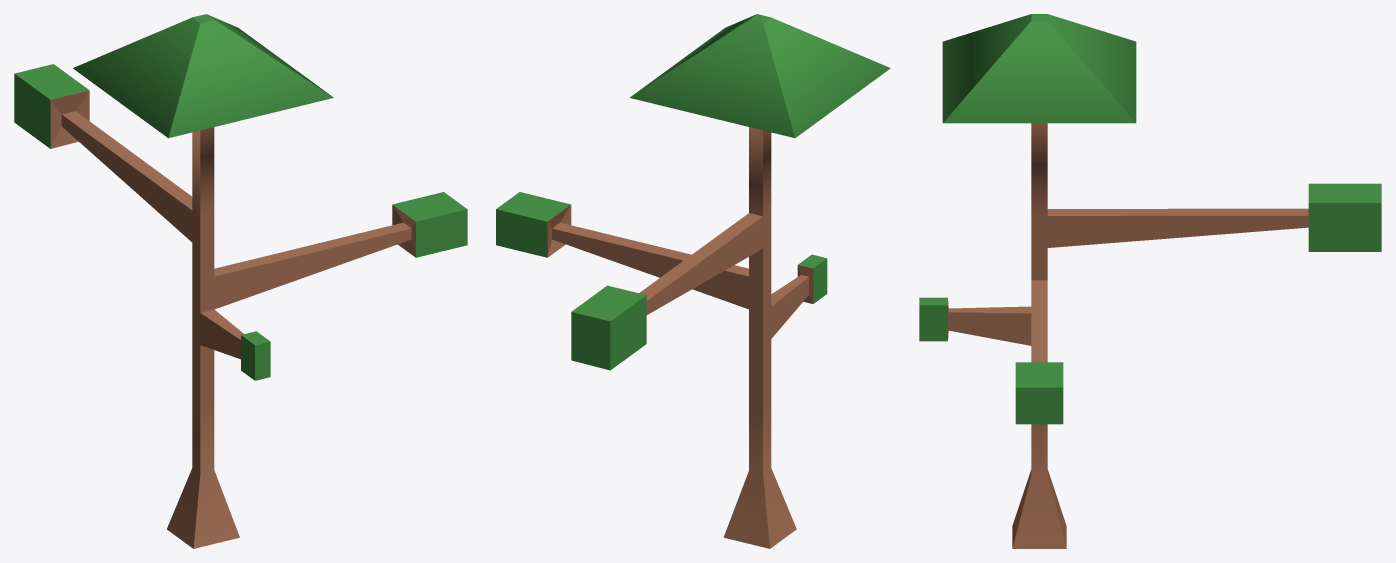
The model's file is gBTree_01.fbx.
The picture shows the model from 3 angles, left to right: view 1: azimuth 30°, elevation 25°; view 2: azimuth 150°, elevation 25°; view 3: azimuth 270°, elevation 25°; orthographic projection.
Visible parts, largest first — view 1: gBTree_01; view 2: gBTree_01; view 3: gBTree_01.
Part boxes in pixels (x1,y1,x2,y2): gBTree_01: [14, 14, 467, 548]; gBTree_01: [496, 14, 890, 548]; gBTree_01: [919, 14, 1381, 548].
Size of the model in its own units: 1454 by 2134 by 1719.
